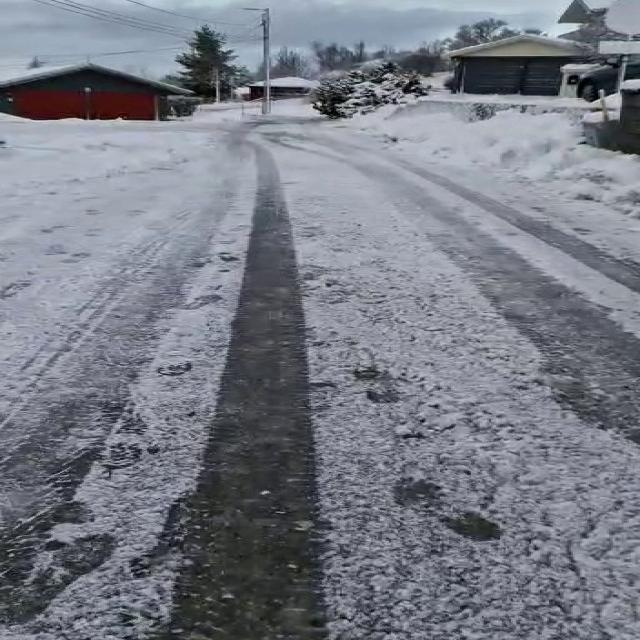path: (0, 114, 640, 640)
